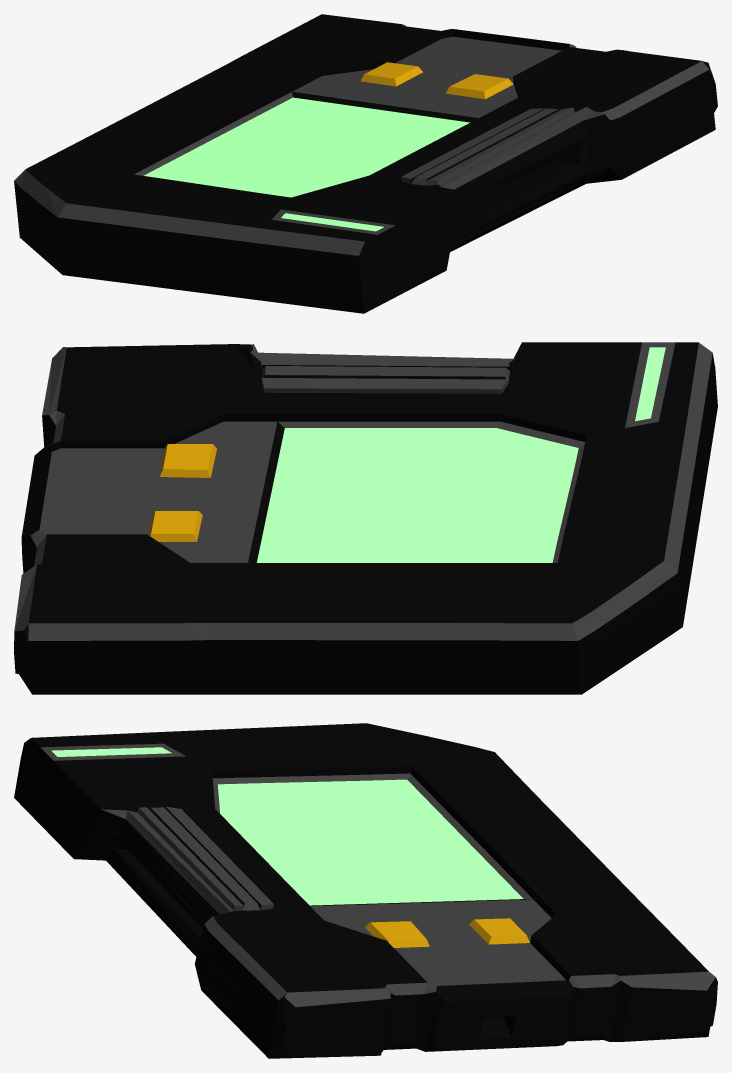
Rendered from Data Pad Final.fbx.
The picture shows the model from 3 angles, top to bottom: view 1: azimuth 30°, elevation 25°; view 2: azimuth 150°, elevation 25°; view 3: azimuth 270°, elevation 25°; orthographic projection. The views are drawn at different scales.
Parts seen in each view (by area): view 1: pCube1; view 2: pCube1; view 3: pCube1.
Part boxes in pixels (bbox=[...]): pCube1: bbox=[14, 14, 717, 313]; pCube1: bbox=[14, 342, 717, 694]; pCube1: bbox=[14, 723, 717, 1058].
Bounding box in the file's own units: 44.31 × 10.52 × 42.89.
